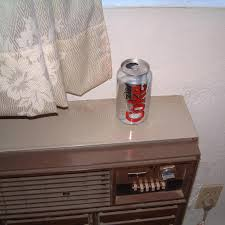can: (110, 49, 163, 132)
